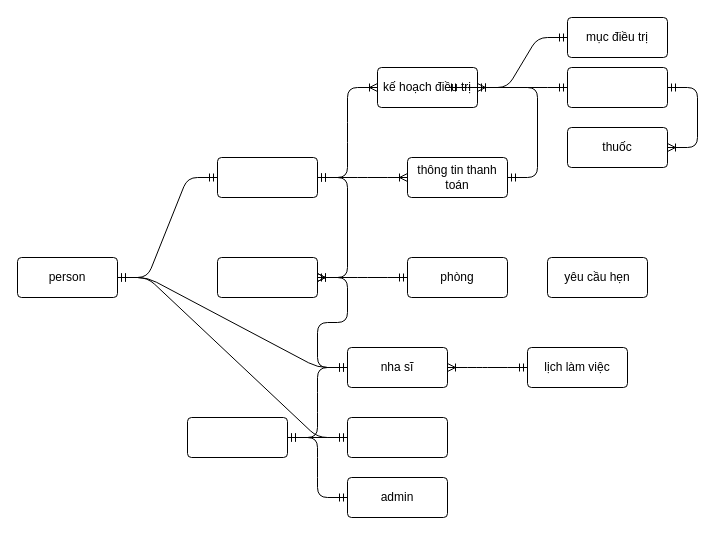
Image size: 724x535. Some labels were removed from this diagram. Here are the shapes that lost their labels. From the top down, the centre of each, then its label:
At point (617, 87): "đơn thuốc".
At point (267, 177): "hồ sơ bệnh nhân".
At point (267, 277): "cuộc hẹn".
At point (237, 437): "account".
At point (397, 437): "nhân viên".
